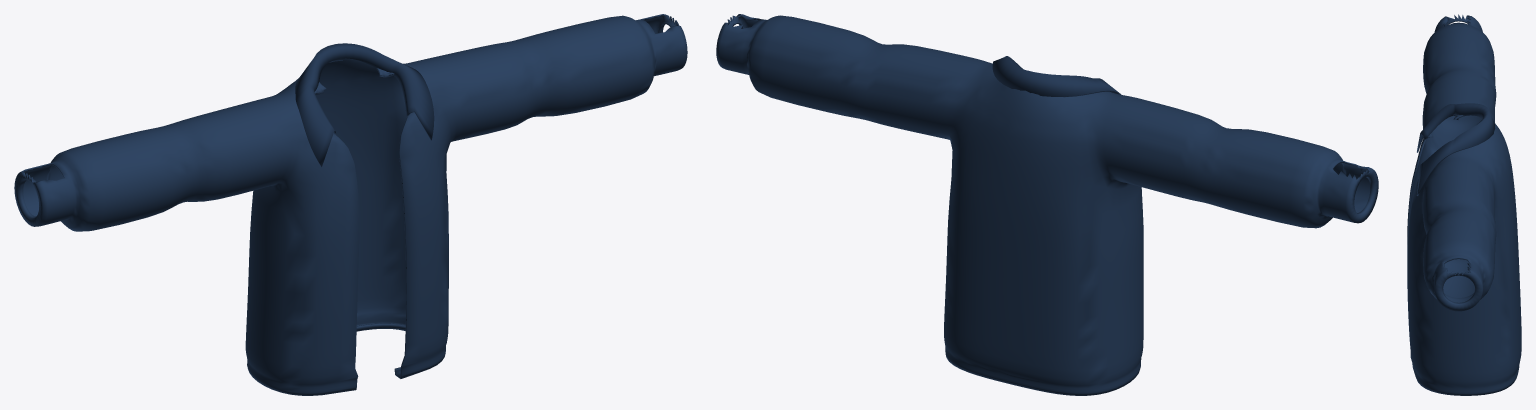
File: overshirt.glb
The picture shows the model from 3 angles, left to right: view 1: azimuth 30°, elevation 25°; view 2: azimuth 150°, elevation 25°; view 3: azimuth 270°, elevation 25°; orthographic projection. The views are drawn at different scales.
Parts seen in each view (by area): view 1: Overshirt; view 2: Overshirt; view 3: Overshirt.
Part boxes in pixels (x1,y1,x2,y2): Overshirt: [14, 14, 687, 395]; Overshirt: [716, 14, 1378, 395]; Overshirt: [1407, 14, 1521, 395].
Size of the model in its own units: 11.8 by 5.35 by 2.22.
